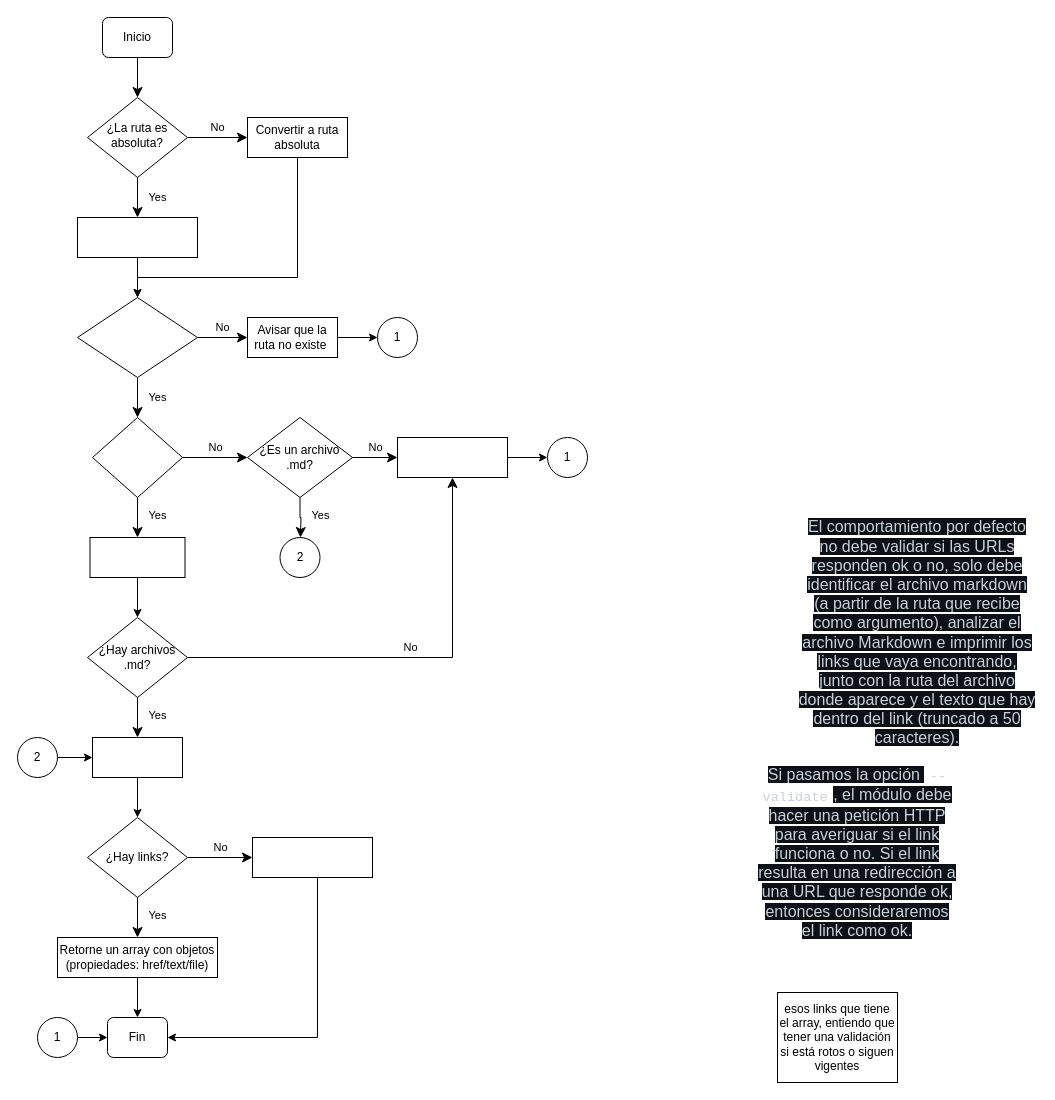
Some shapes in this 1055 by 1100 pixel diagram are drawn without their labels. Here are the shapes that lost their labels. From the top down, the centre of each, then its label:
the point at 137,237: La ruta absoluta se queda igual
the point at 137,337: ¿Existe en su computador?
the point at 137,457: ¿Es una carpeta?
the point at 452,457: Avisar que no hay archivos .md para analizar
the point at 137,557: Recorrer los archivos
the point at 137,757: Leer archivo
the point at 312,857: Respuesta que no hay links al usuario
